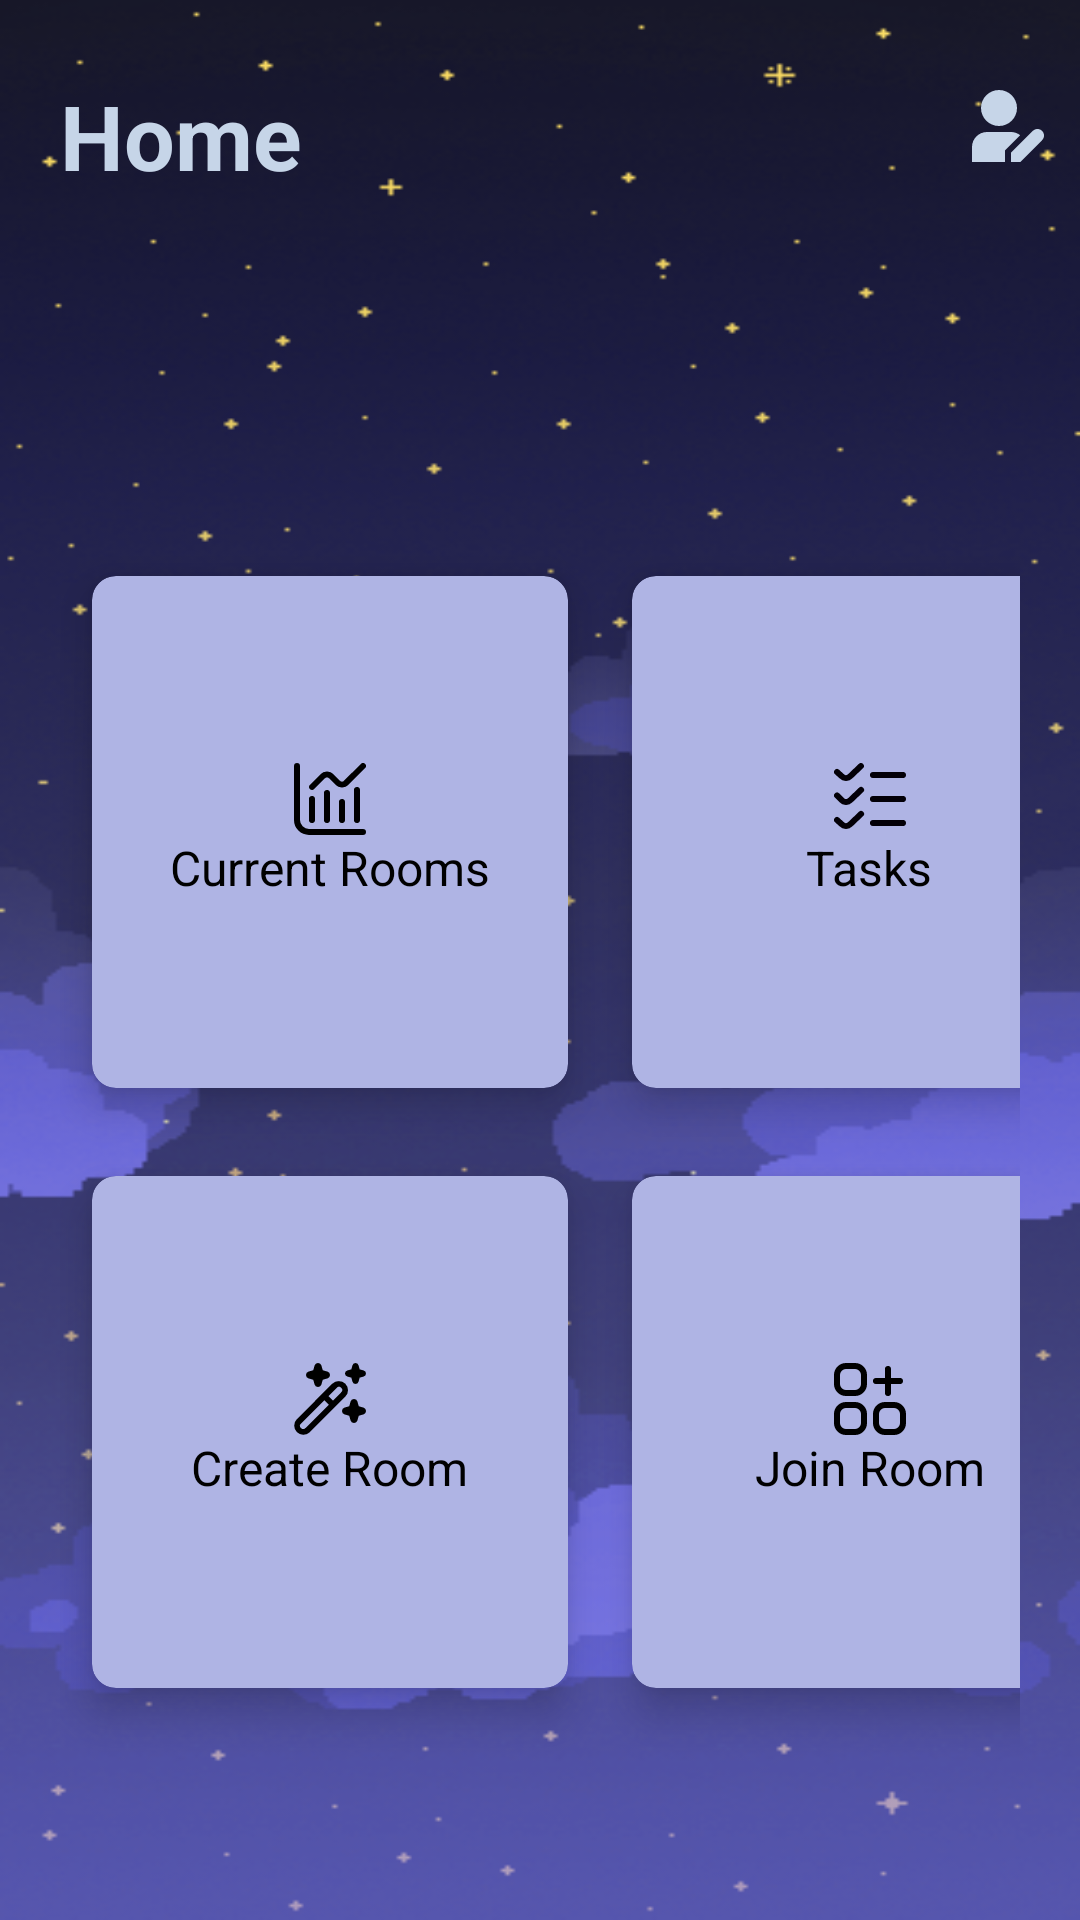

Icons on this 1080w x 1920h Android screen, each with the point to tap as point (x, y):
profile: point (1008, 126)
